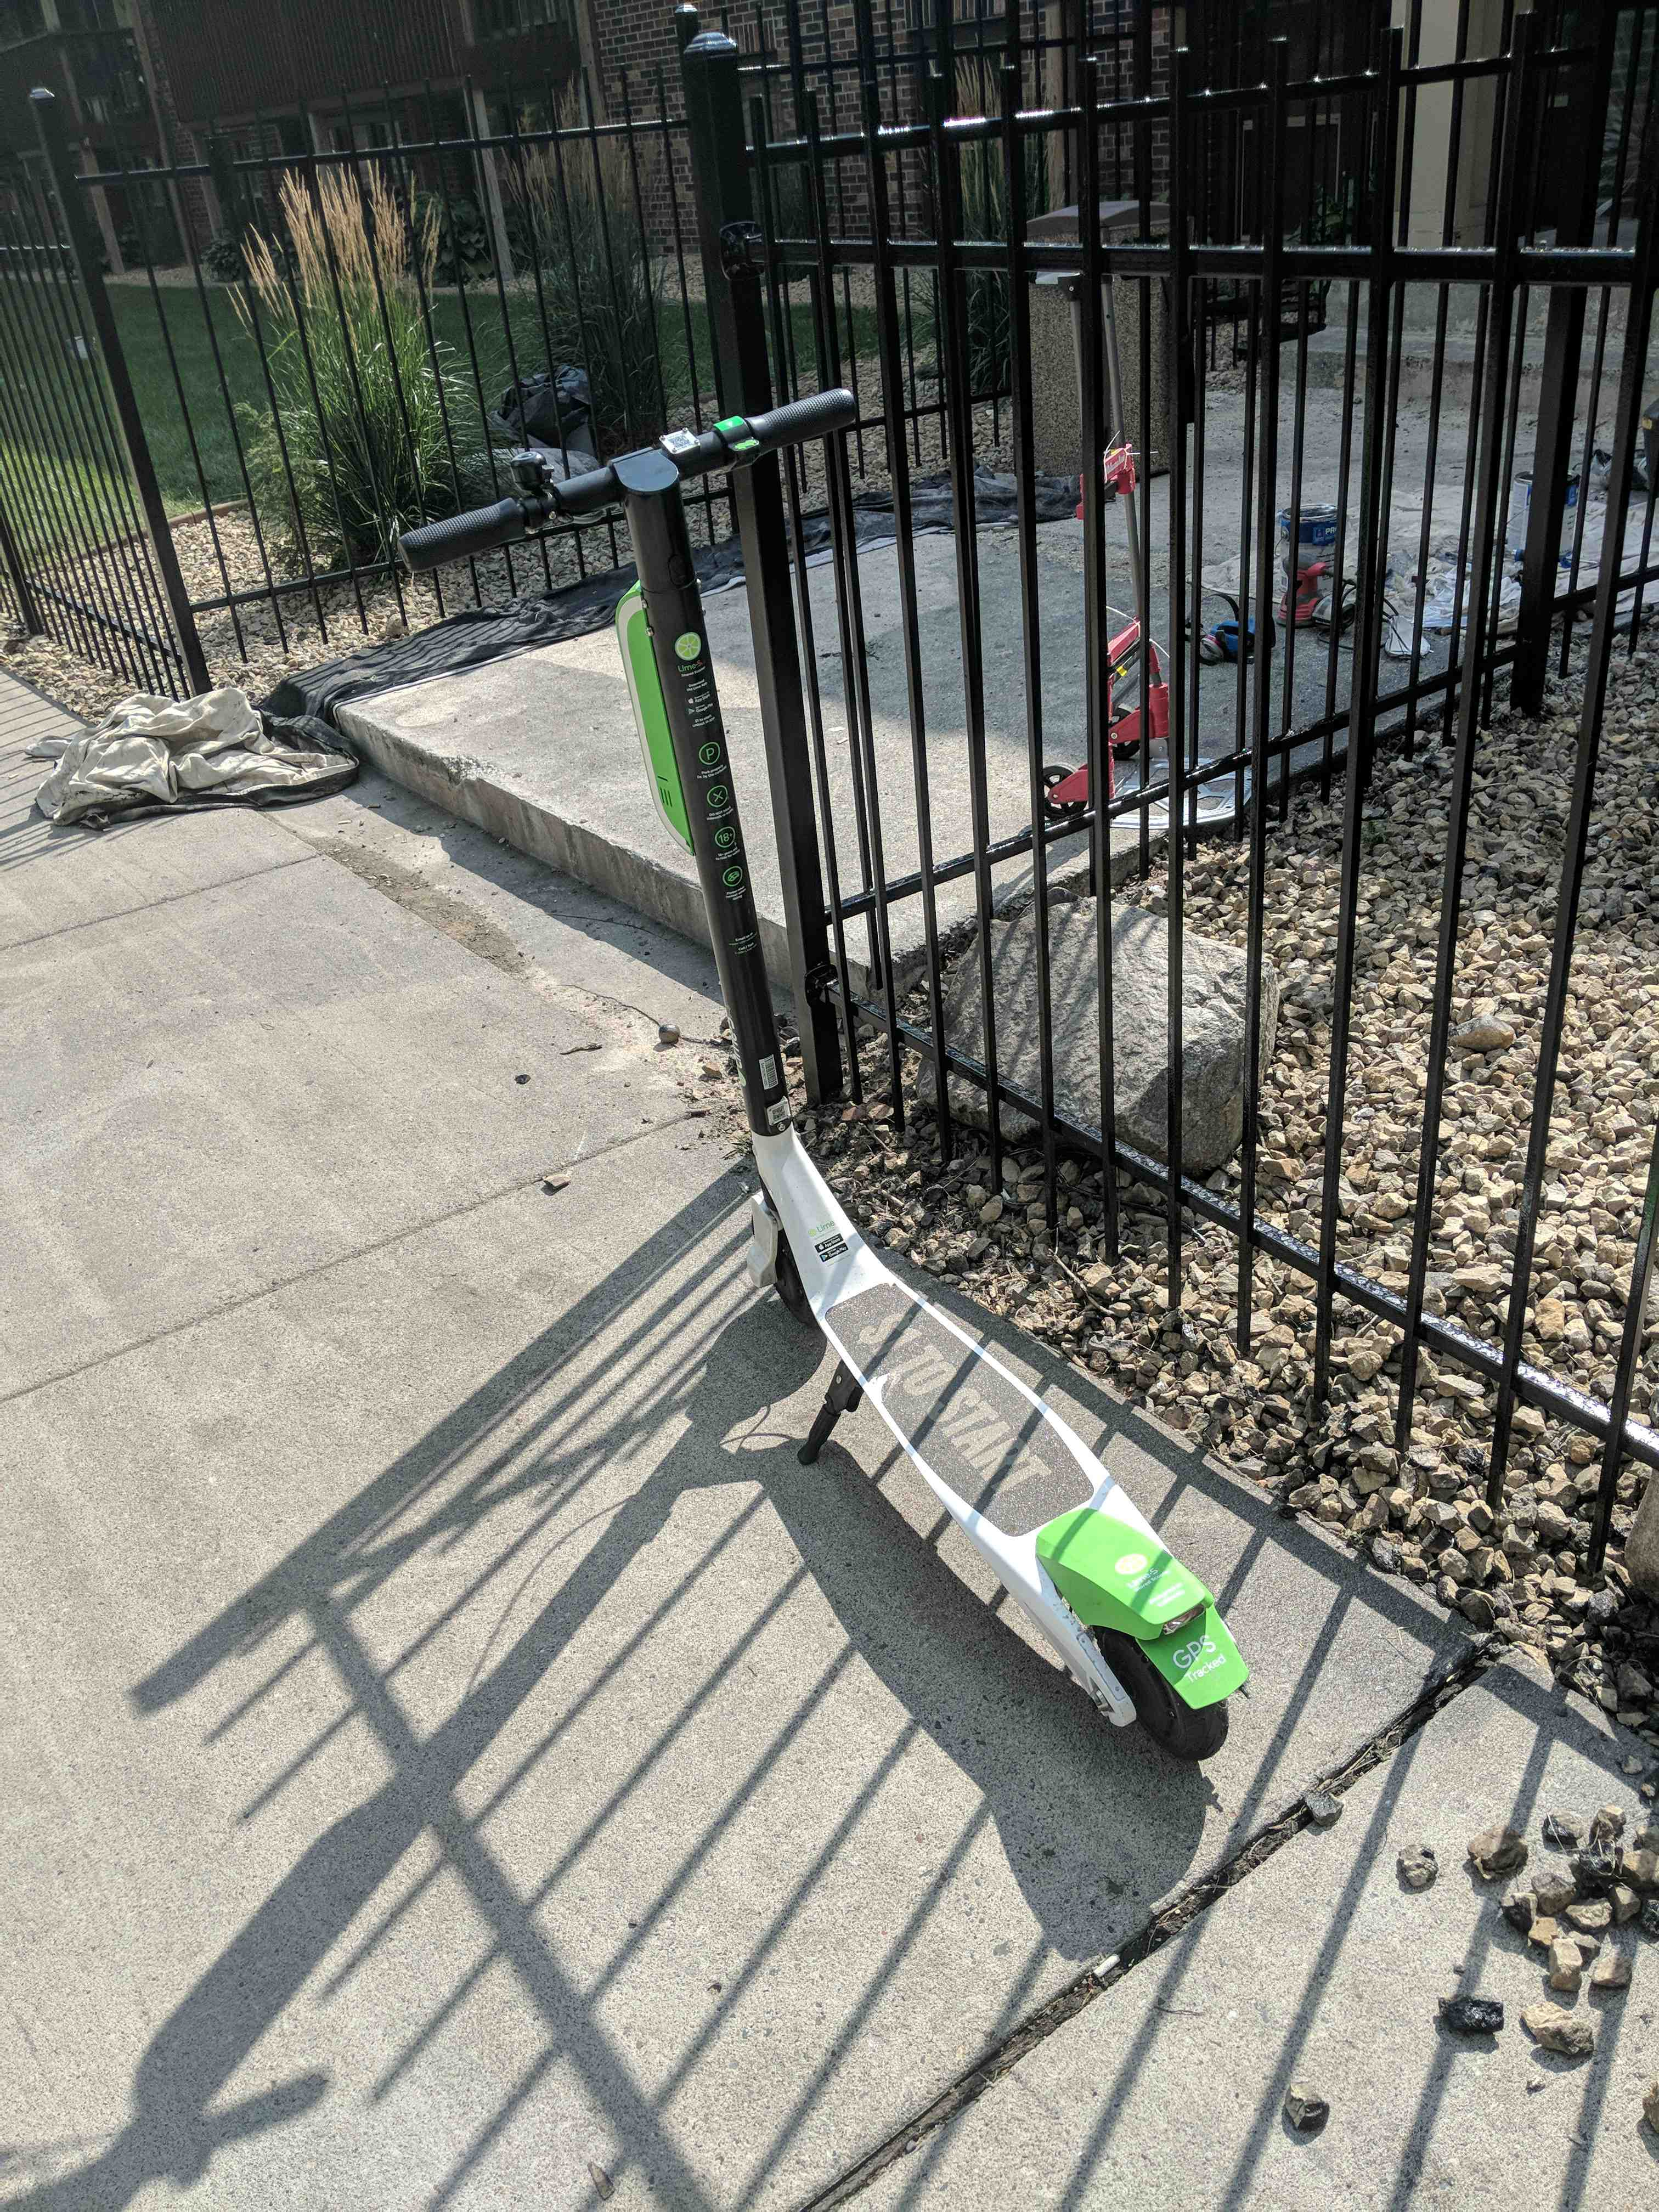scooter: (375, 340, 1304, 1770)
